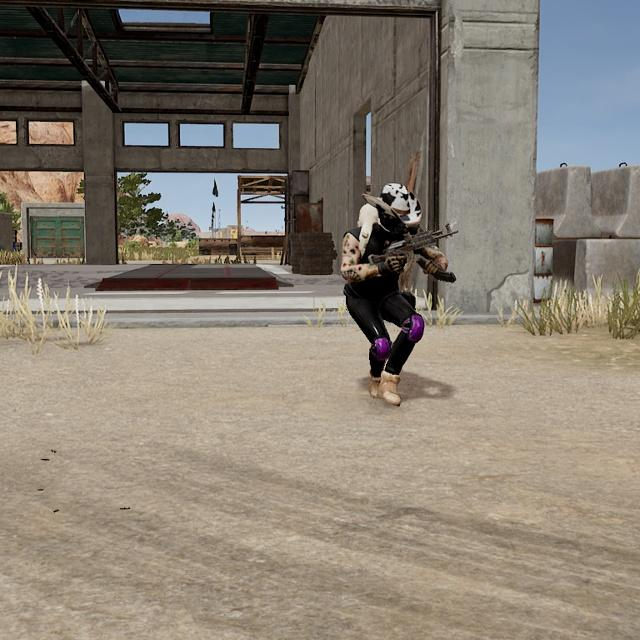head: (372, 180, 425, 232)
people: (332, 176, 455, 405)
